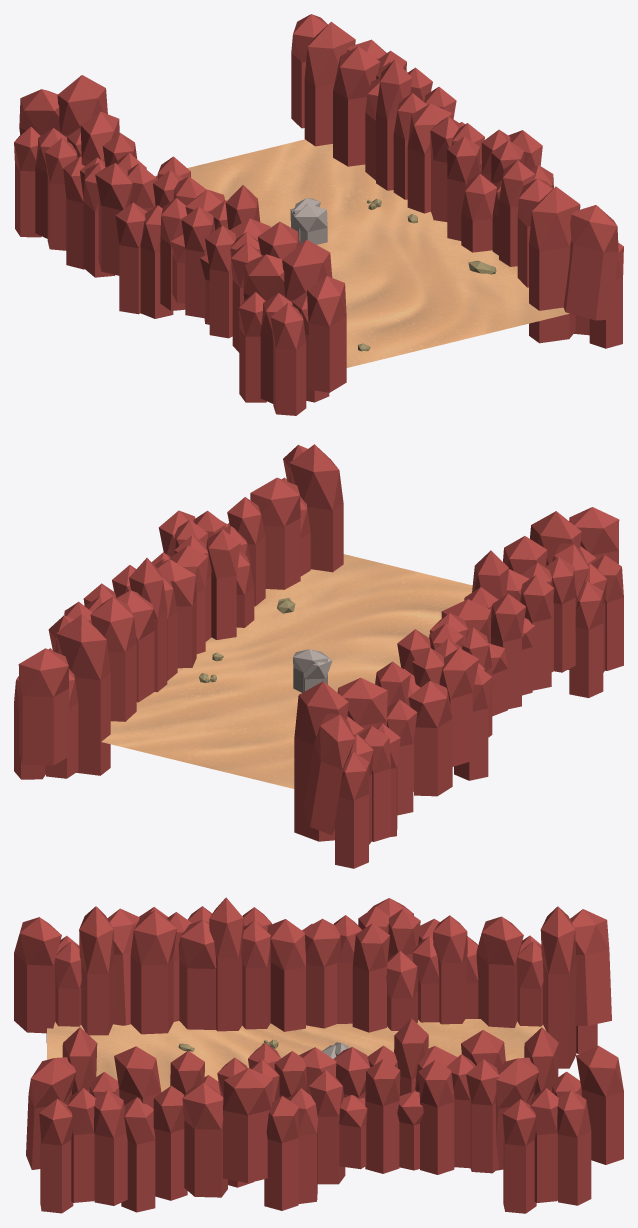
The model's file is terrain 1.fbx.
3 views of the same model, one above another, from view 1: azimuth 30°, elevation 25°; view 2: azimuth 150°, elevation 25°; view 3: azimuth 270°, elevation 25° (orthographic). The views are drawn at different scales.
Visible parts, largest first — view 1: Icosphere.001, Plane.001, Icosphere.009; view 2: Icosphere.001, Plane.001, Icosphere.002, Icosphere.009; view 3: Icosphere.001, Plane.001.
Part boxes in pixels (left/top/right/bottom): Icosphere.001: left=14, top=14, right=623, bottom=415; Plane.001: left=155, top=139, right=569, bottom=367; Icosphere.009: left=290, top=204, right=327, bottom=244; Icosphere.001: left=14, top=444, right=623, bottom=868; Plane.001: left=101, top=554, right=472, bottom=788; Icosphere.002: left=293, top=649, right=327, bottom=692; Icosphere.009: left=303, top=650, right=332, bottom=691; Icosphere.001: left=14, top=897, right=623, bottom=1213; Plane.001: left=47, top=1019, right=545, bottom=1092.
Bounding box in the file's own units: 4304 × 1886 × 6043.
4 materials, 1 textured.
